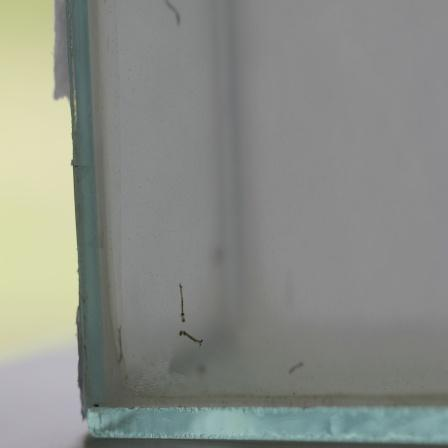Jentik-Nyamuk: (178, 325, 205, 349), (174, 281, 187, 323)
